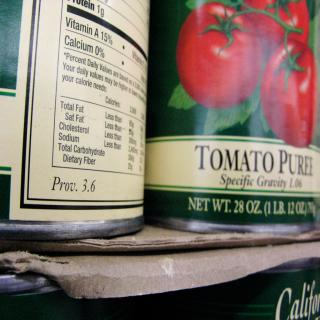tomato: (179, 0, 276, 109), (260, 38, 318, 150), (240, 0, 308, 45)
